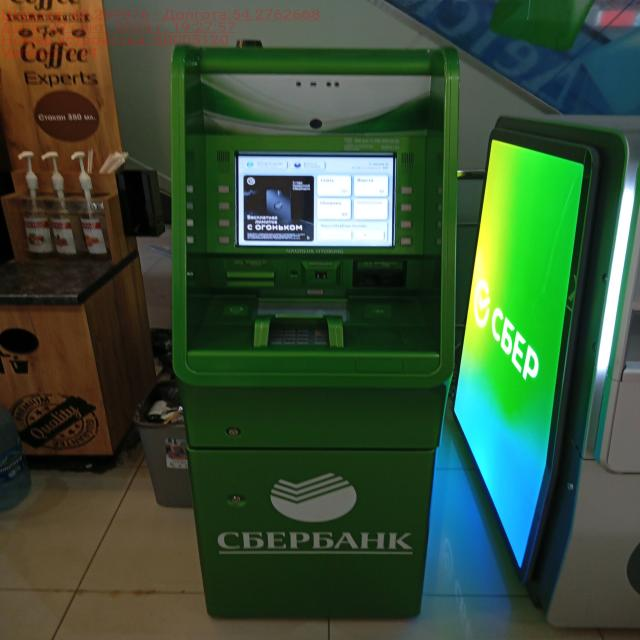bank: (171, 41, 462, 624), (448, 112, 640, 630)
